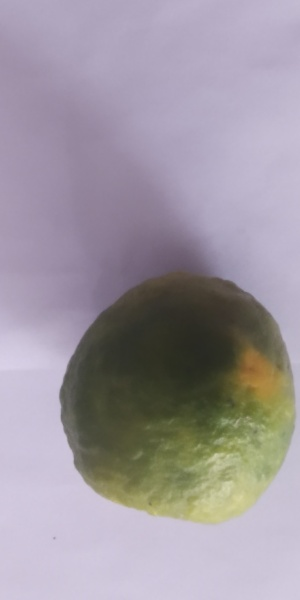BAD: (53, 269, 300, 523)
